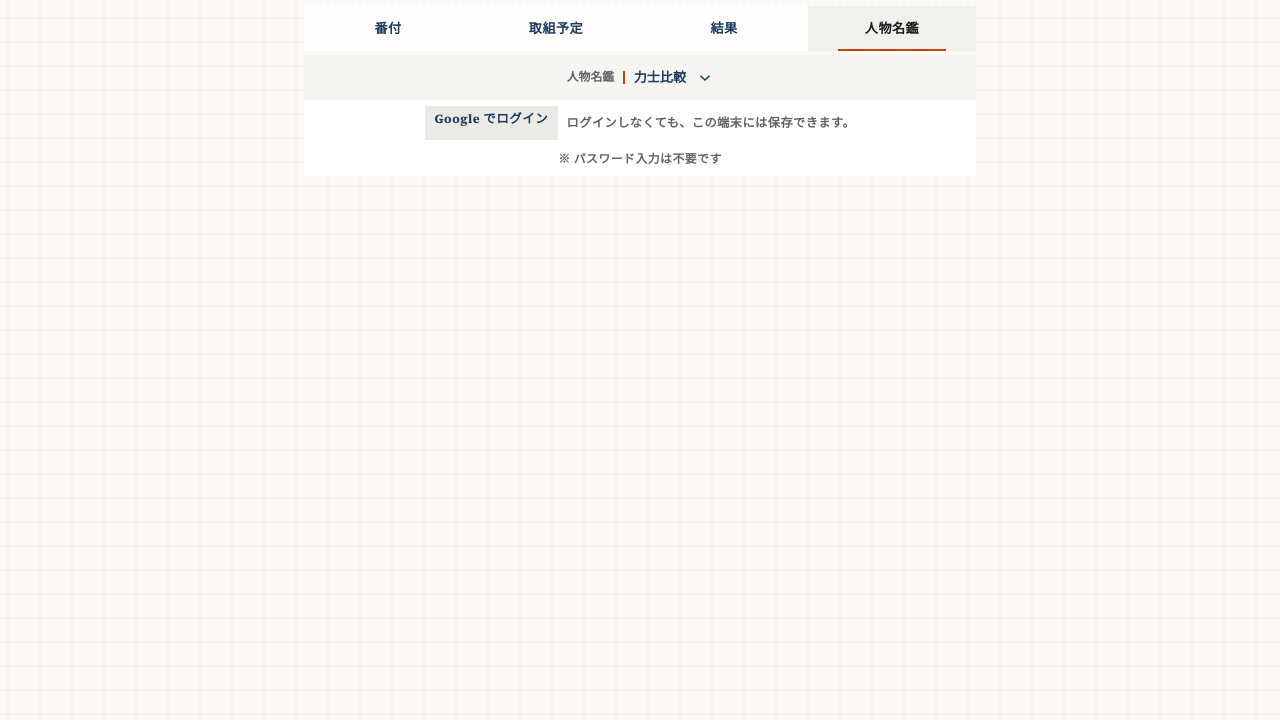
Test: PrimaryNavigation › opens the people directory tray and preserves both parent and child current markers
The width and height of the screenshot is (1280, 720).
Click the button "人物名鑑 力士比較".
click(640, 78)  # box [304,55,976,100]
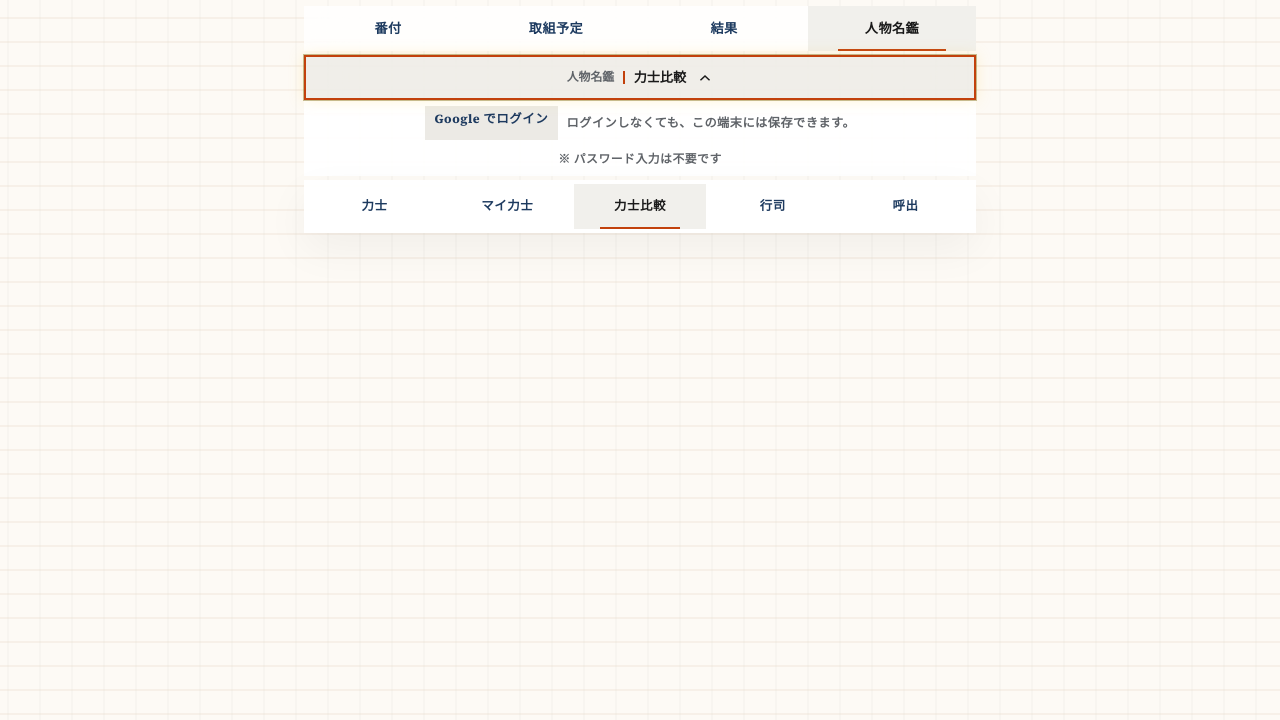
Expected: the button "人物名鑑 力士比較" is expanded, [304,55,976,100]
